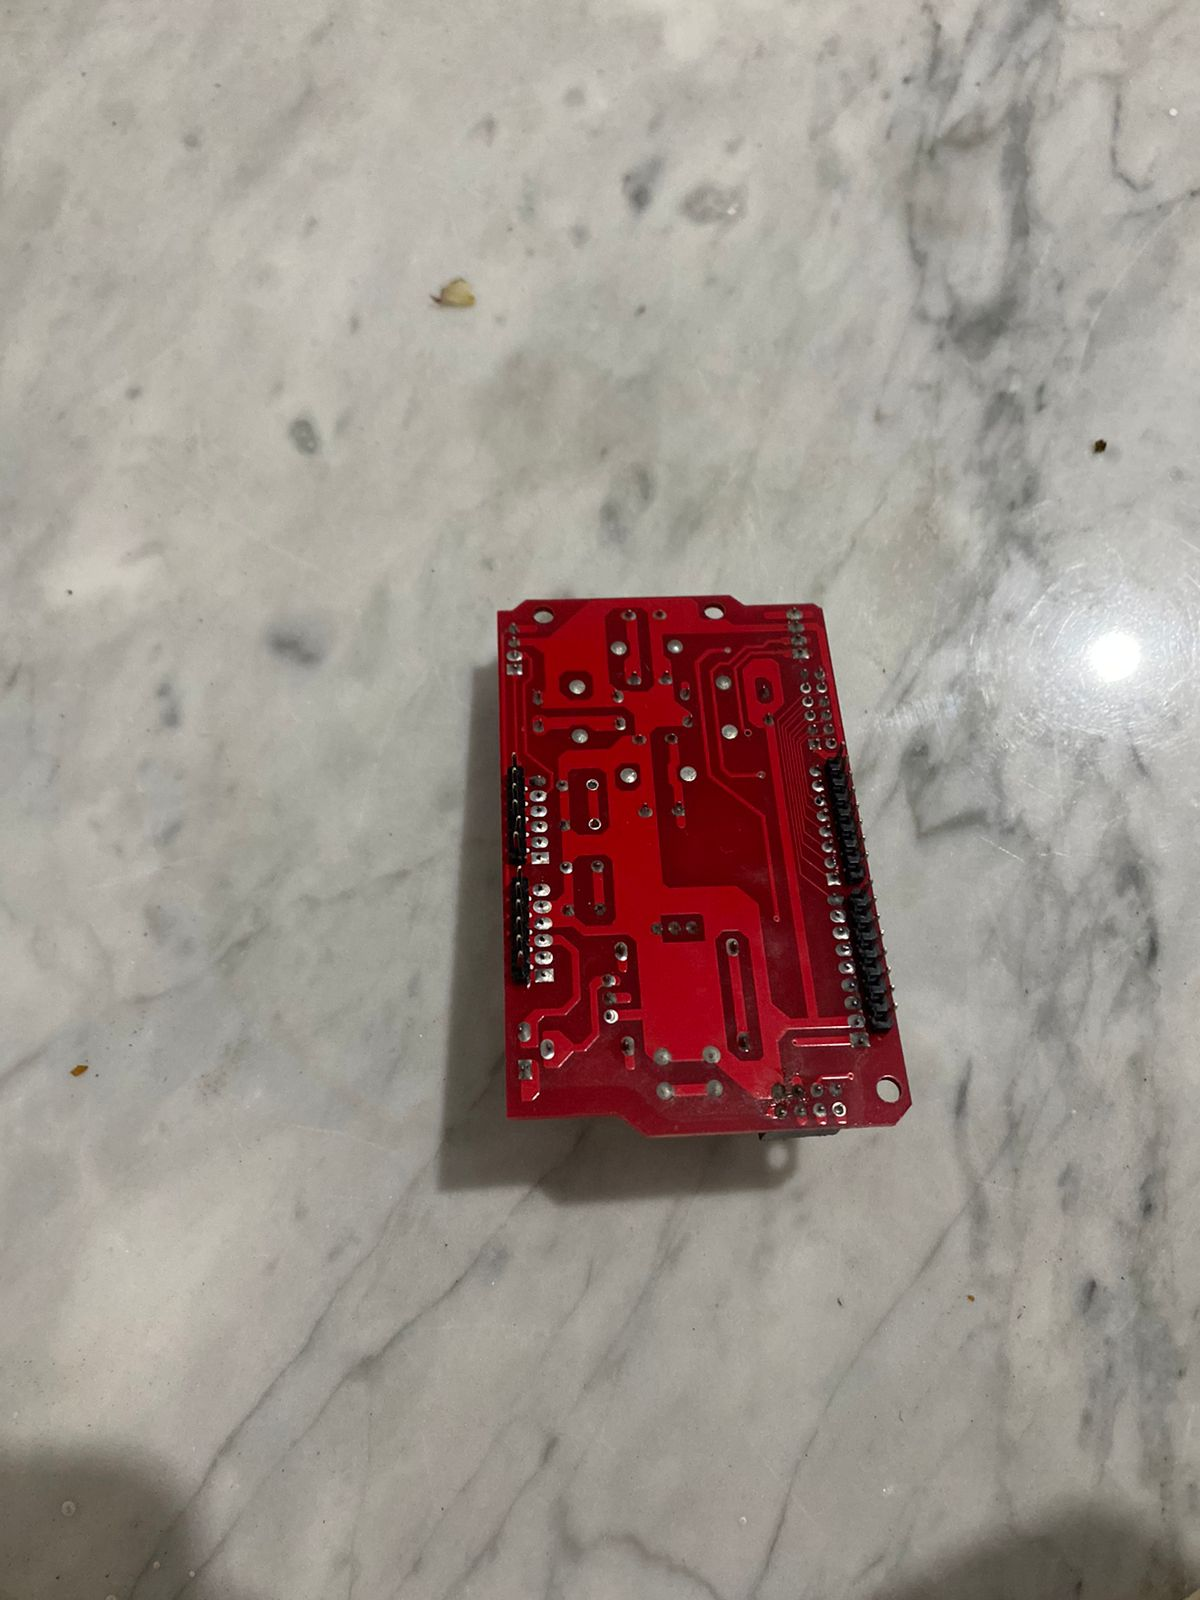Clavier-Joystick: (473, 592, 932, 1180)
